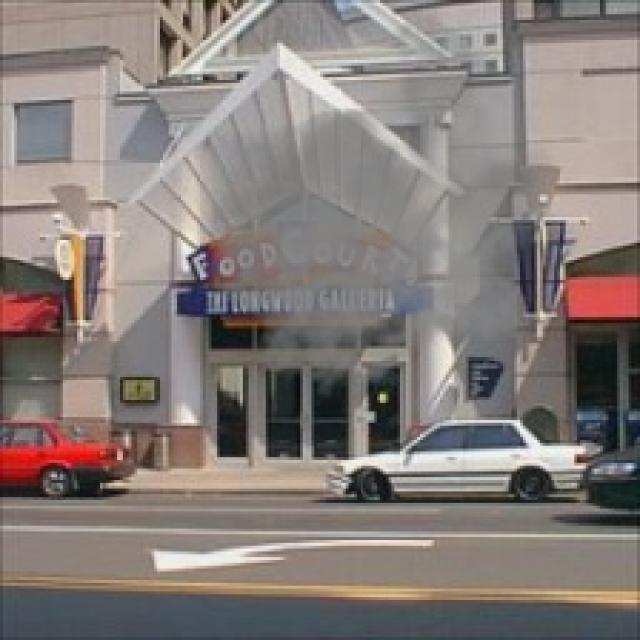smoke: (186, 6, 563, 397)
